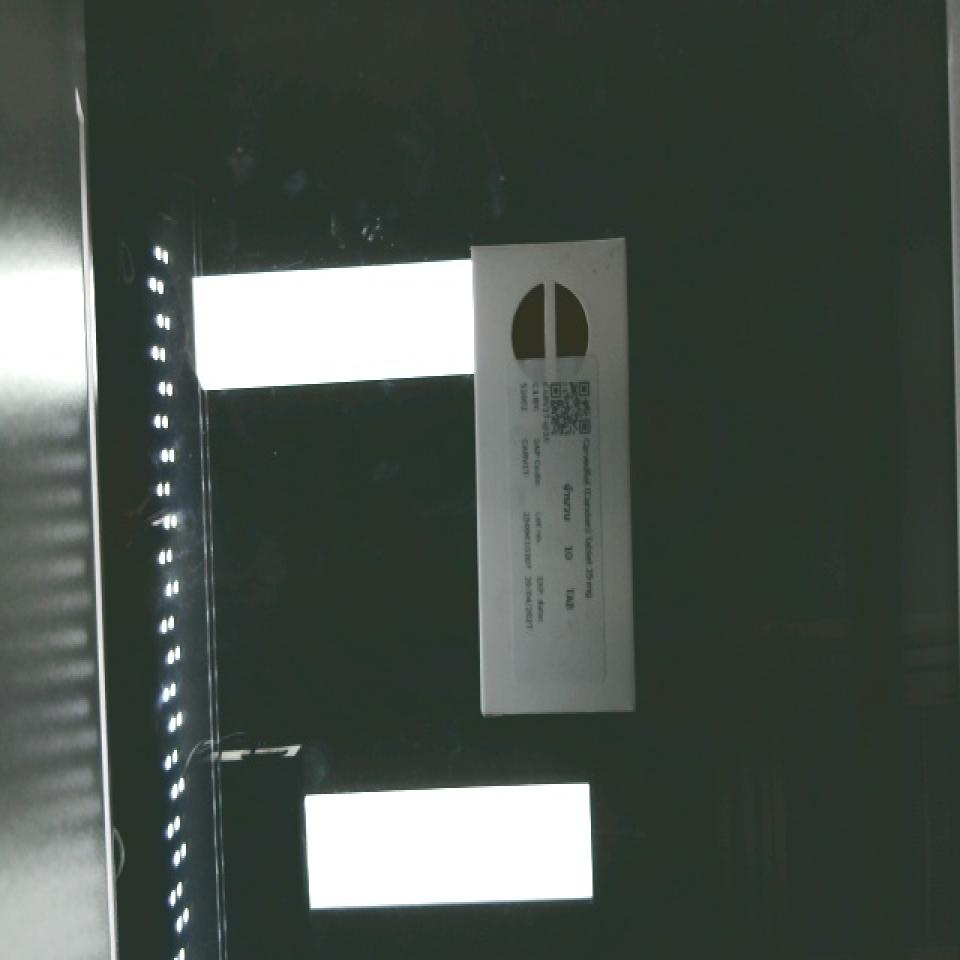medicine_box: (472, 243, 633, 713)
qr_code: (539, 368, 608, 443)
